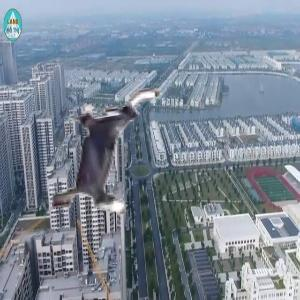drone: (14, 79, 173, 238)
